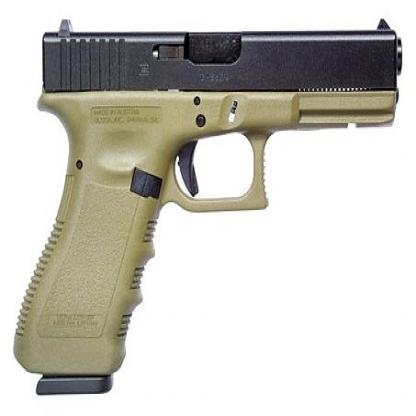gun: (3, 3, 408, 387)
